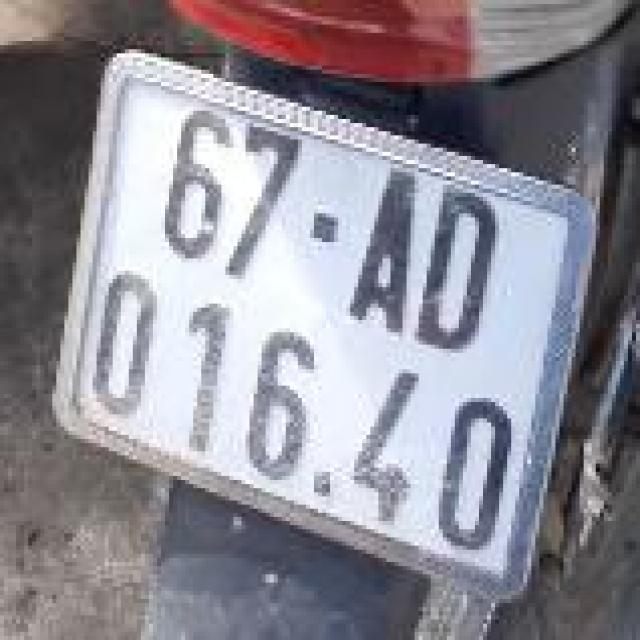0: (426, 384, 525, 562), (79, 259, 172, 426)
1: (166, 291, 247, 469)
4: (335, 366, 445, 537)
6: (151, 100, 243, 271), (238, 318, 327, 489)
7: (204, 114, 317, 291)
A: (332, 150, 441, 348)
D: (409, 169, 515, 366)
